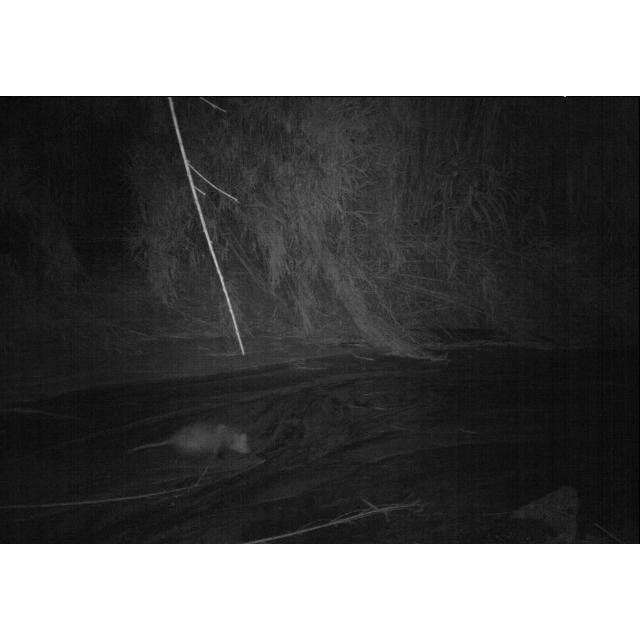animals: (132, 422, 258, 460)
